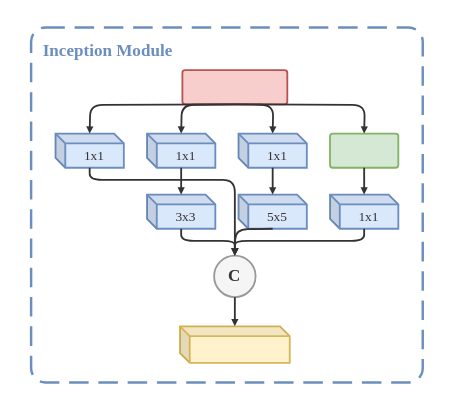
The diagram is 449 pixels wide and 409 high, and some of its shapes have lost their labels. Here are the shapes that lost their labels. From the top down, the box of each, then its label:
(181, 69, 288, 105): Input
(329, 132, 399, 168): MaxPool
(178, 325, 290, 363): Output
